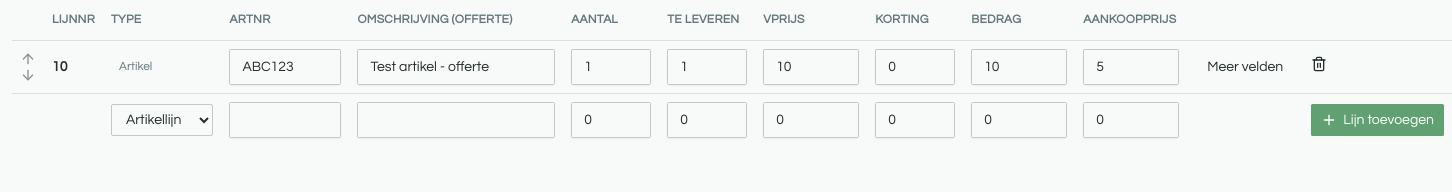
OfferteLijnenEditor - persisted mode › shows a readable error and leaves the list untouched when deleting a persisted line fails
The width and height of the screenshot is (1452, 192).
Click the button named "verwijder lijn": x=1319, y=64 [1311, 56, 1327, 72]
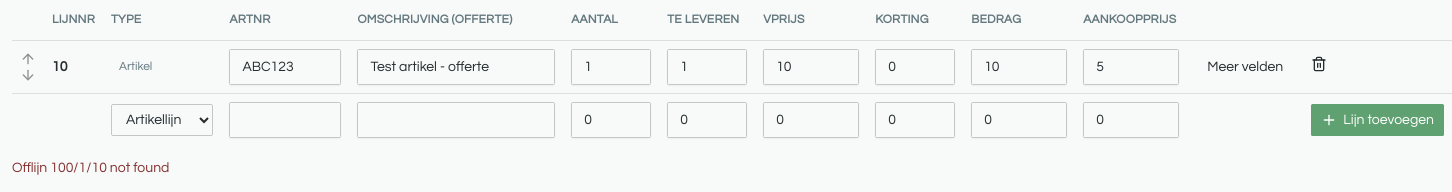
Now the text "Offlijn 100/1/10 not found" is shown, box [12, 160, 169, 174]
